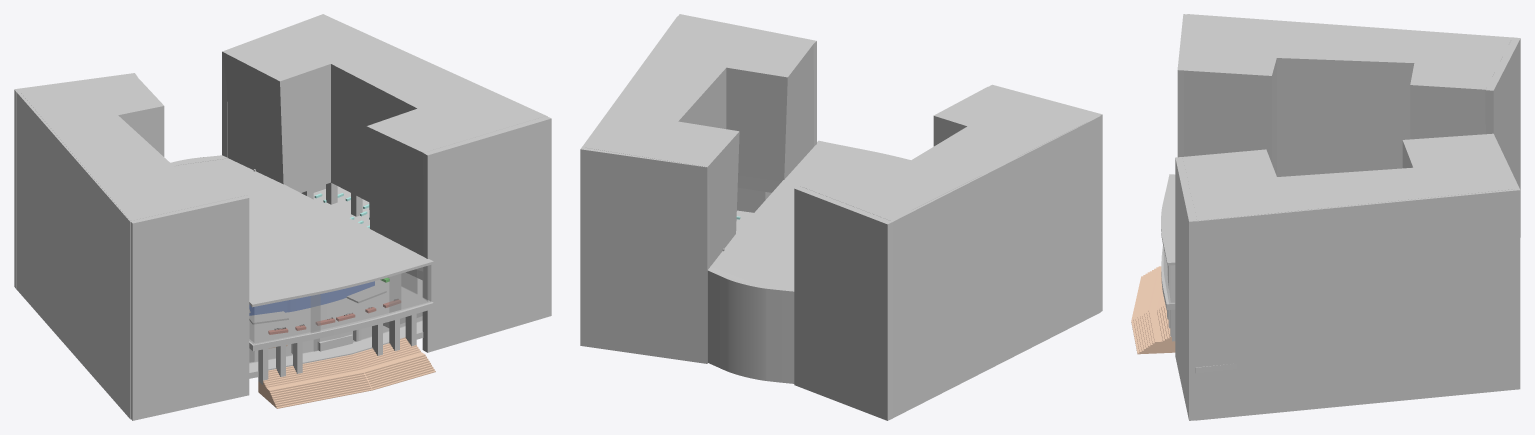
The model's file is researchcentermodelv4.glb.
The picture shows the model from 3 angles, left to right: view 1: azimuth 30°, elevation 25°; view 2: azimuth 150°, elevation 25°; view 3: azimuth 270°, elevation 25°; orthographic projection.
Visible parts, largest first — view 1: floor__outside__building_r_main, floor__outside__building_r_front_wall, floor__outside__building_r_front_wall.001, floor__outside__building_r_right_wall.001, floor__outside__building_r_main.001, floor__outside__top_ceiling, floor__outside__front_4f_glass, floor__1f__stairs_1f, floor__4f__4f_base_base, floor__1f__1f_base, floor__4f__room_r0_4f, floor__outside__building_r_back_wall.001 (+2 smaller); view 2: floor__outside__building_r_right_wall.001, floor__outside__building_r_main, floor__outside__building_r_back_wall, floor__outside__building_r_back_wall.001, floor__outside__building_r_main.001, floor__outside__back_wall, floor__outside__top_ceiling, floor__outside__building_r_front_wall.001, floor__outside__building_r_front_wall, floor__elevators__elevator_shaft_r; view 3: floor__outside__building_r_right_wall, floor__outside__building_r_main.001, floor__outside__building_r_main, floor__outside__building_r_front_wall, floor__outside__building_r_back_wall.001, floor__1f__stairs_1f, floor__outside__building_r_back_wall, floor__outside__top_ceiling, floor__outside__building_r_front_wall.001, floor__4f__4f_base_base, floor__outside__building_r_right_wall.001, floor__outside__front_4f_glass.
Boxes of the visible parts, x1=… form: floor__outside__building_r_main: x1=222, y1=16, x2=545, y2=271; floor__outside__building_r_front_wall: x1=422, y1=116, x2=551, y2=352; floor__outside__building_r_front_wall.001: x1=130, y1=195, x2=249, y2=420; floor__outside__building_r_right_wall.001: x1=17, y1=92, x2=130, y2=419; floor__outside__building_r_main.001: x1=20, y1=76, x2=250, y2=312; floor__outside__top_ceiling: x1=174, y1=158, x2=433, y2=307; floor__outside__front_4f_glass: x1=249, y1=265, x2=430, y2=344; floor__1f__stairs_1f: x1=258, y1=337, x2=435, y2=408; floor__4f__4f_base_base: x1=249, y1=186, x2=433, y2=351; floor__1f__1f_base: x1=249, y1=316, x2=423, y2=378; floor__4f__room_r0_4f: x1=249, y1=281, x2=374, y2=315; floor__outside__building_r_back_wall.001: x1=14, y1=73, x2=137, y2=289; floor__outside__building_r_right_wall.001: x1=891, y1=116, x2=1100, y2=417; floor__outside__building_r_main: x1=585, y1=17, x2=813, y2=266; floor__outside__building_r_back_wall: x1=580, y1=146, x2=709, y2=363; floor__outside__building_r_back_wall.001: x1=794, y1=186, x2=893, y2=420; floor__outside__building_r_main.001: x1=800, y1=86, x2=1098, y2=220; floor__outside__back_wall: x1=707, y1=266, x2=794, y2=383; floor__outside__top_ceiling: x1=711, y1=140, x2=910, y2=287; floor__outside__building_r_front_wall.001: x1=989, y1=84, x2=1102, y2=311; floor__outside__building_r_front_wall: x1=677, y1=14, x2=816, y2=146; floor__elevators__elevator_shaft_r: x1=737, y1=187, x2=771, y2=212; floor__outside__building_r_right_wall: x1=1195, y1=189, x2=1512, y2=420; floor__outside__building_r_main.001: x1=1184, y1=14, x2=1511, y2=176; floor__outside__building_r_main: x1=1182, y1=133, x2=1514, y2=220; floor__outside__building_r_front_wall: x1=1175, y1=157, x2=1196, y2=420; floor__outside__building_r_back_wall.001: x1=1485, y1=37, x2=1520, y2=237; floor__1f__stairs_1f: x1=1131, y1=266, x2=1175, y2=354; floor__outside__building_r_back_wall: x1=1493, y1=134, x2=1520, y2=389; floor__outside__top_ceiling: x1=1161, y1=174, x2=1175, y2=265; floor__outside__building_r_front_wall.001: x1=1177, y1=14, x2=1189, y2=157; floor__4f__4f_base_base: x1=1161, y1=245, x2=1237, y2=373; floor__outside__building_r_right_wall.001: x1=1187, y1=14, x2=1512, y2=38; floor__outside__front_4f_glass: x1=1164, y1=251, x2=1174, y2=303.
Size of the model in its own units: 116 by 52.8 by 92.15.
